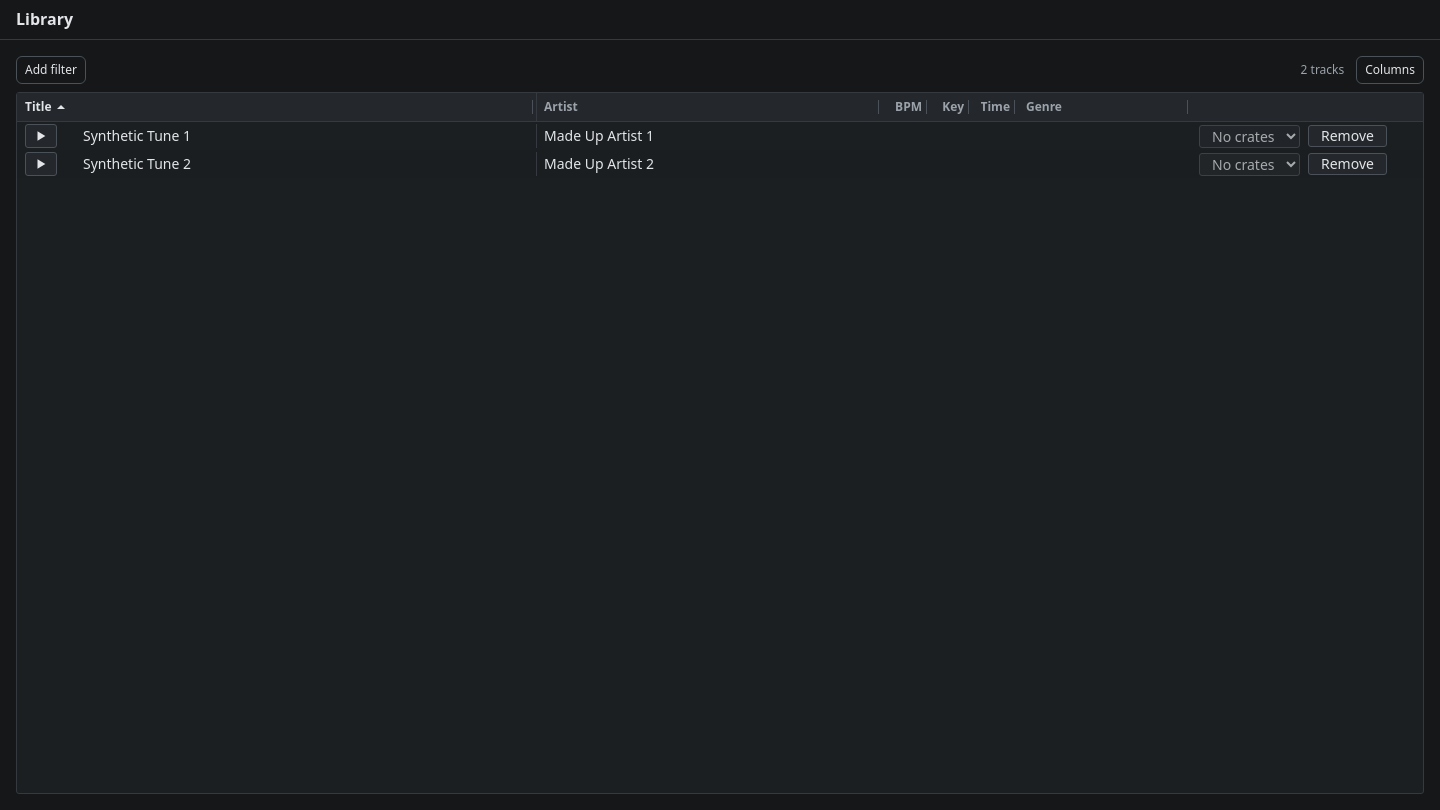
Test case: removing a track from the Library › removes the chosen track once confirmed, and only that one
Click the button "Remove" in the row of "Synthetic Tune 1": (1347, 136) [1308, 125, 1387, 147]
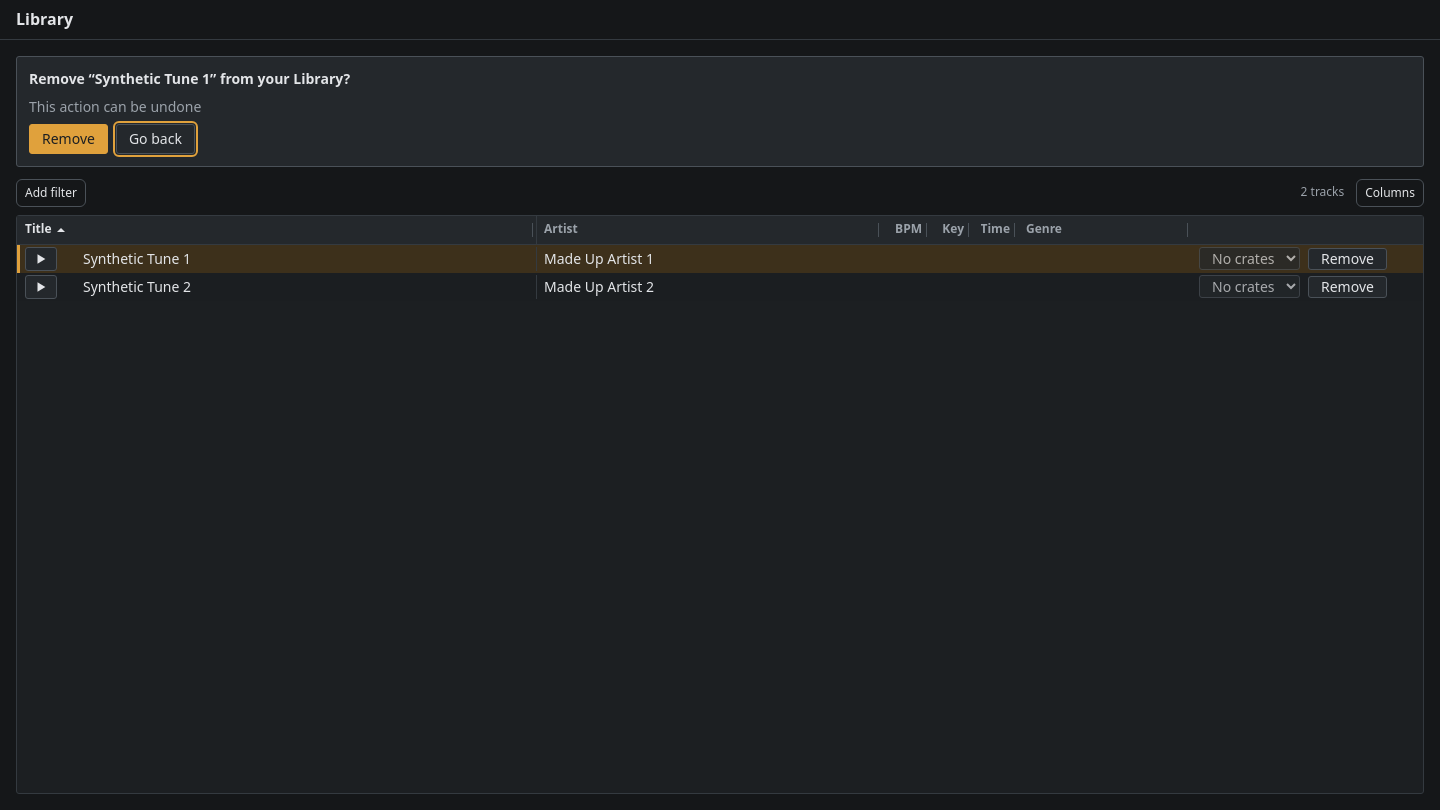
Click the button "Remove" below "This action can be undone": (68, 139) [29, 124, 108, 154]
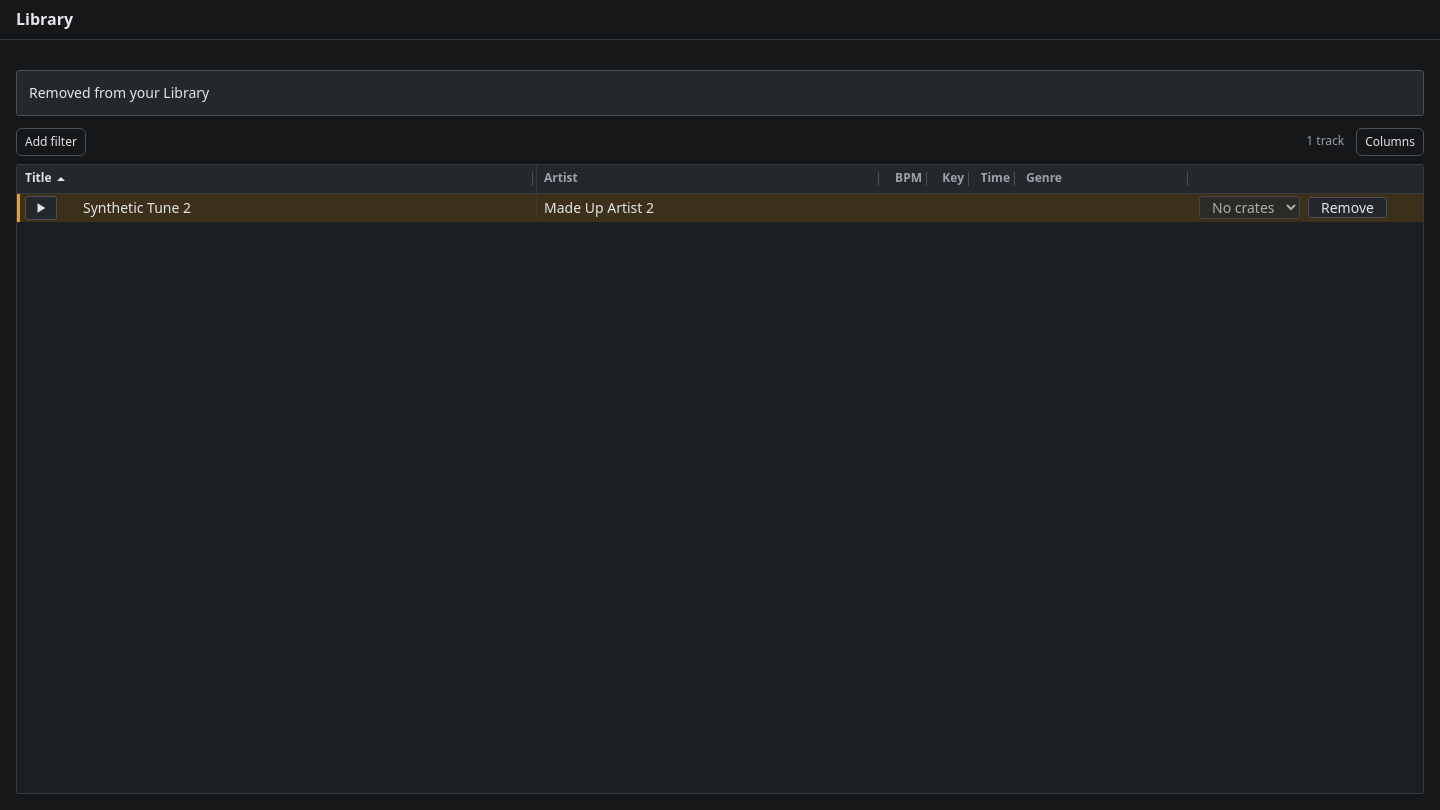
Check: the message reads "Removed from your Library", box [29, 83, 209, 102]
Check: the row "Synthetic Tune 2 Made Up Artist 2 Remove" is shown, box [17, 194, 1423, 222]
